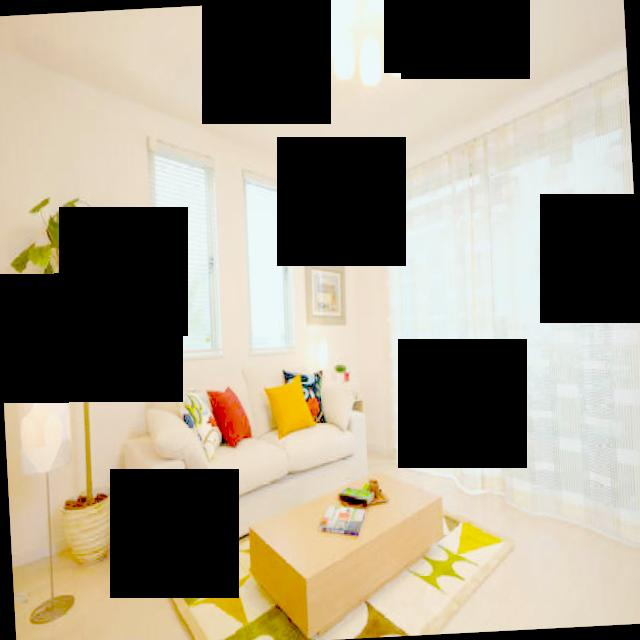modern desk: (228, 473, 462, 626)
modern sofa: (119, 350, 370, 496)
